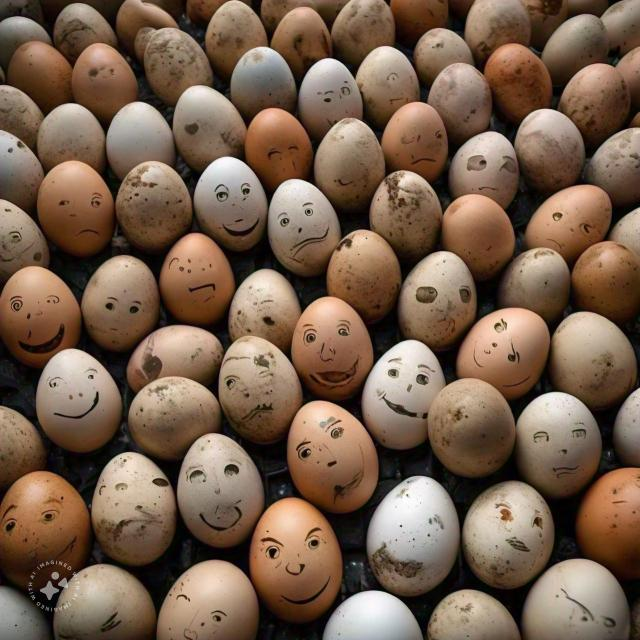Brown Egg: (440, 194, 517, 275)
Dirt Stained Egg: (250, 496, 351, 620), (360, 466, 460, 588), (0, 467, 88, 598), (413, 377, 525, 478), (283, 395, 383, 507), (28, 347, 127, 457), (174, 432, 268, 541), (96, 452, 186, 561), (462, 476, 551, 580), (397, 237, 478, 351), (364, 334, 439, 452), (213, 342, 301, 442), (33, 162, 119, 261), (528, 556, 628, 640), (523, 388, 602, 494), (49, 559, 151, 640), (228, 264, 314, 360), (5, 265, 82, 372), (155, 561, 256, 640), (82, 250, 160, 352), (552, 306, 634, 398), (452, 304, 545, 384), (304, 297, 381, 390), (128, 379, 213, 459), (114, 324, 225, 385), (118, 160, 193, 250), (190, 160, 268, 244), (269, 176, 340, 268), (518, 182, 615, 249), (160, 232, 231, 320), (445, 128, 527, 202), (513, 111, 595, 185), (140, 22, 212, 104), (369, 169, 443, 248), (328, 224, 396, 309), (307, 116, 387, 188), (377, 99, 455, 168), (103, 103, 178, 174), (173, 79, 243, 150), (498, 247, 570, 315), (429, 591, 520, 640), (432, 64, 495, 134), (232, 44, 297, 109), (576, 245, 640, 311), (484, 44, 550, 104), (294, 57, 361, 116), (208, 0, 269, 64), (564, 69, 629, 128), (1, 195, 49, 273), (330, 3, 400, 56), (592, 127, 640, 200), (474, 0, 540, 53), (270, 2, 326, 64), (364, 44, 414, 109), (413, 19, 470, 76), (0, 131, 44, 201), (0, 79, 38, 133)
White Egg: (323, 582, 425, 640), (103, 102, 176, 176)
